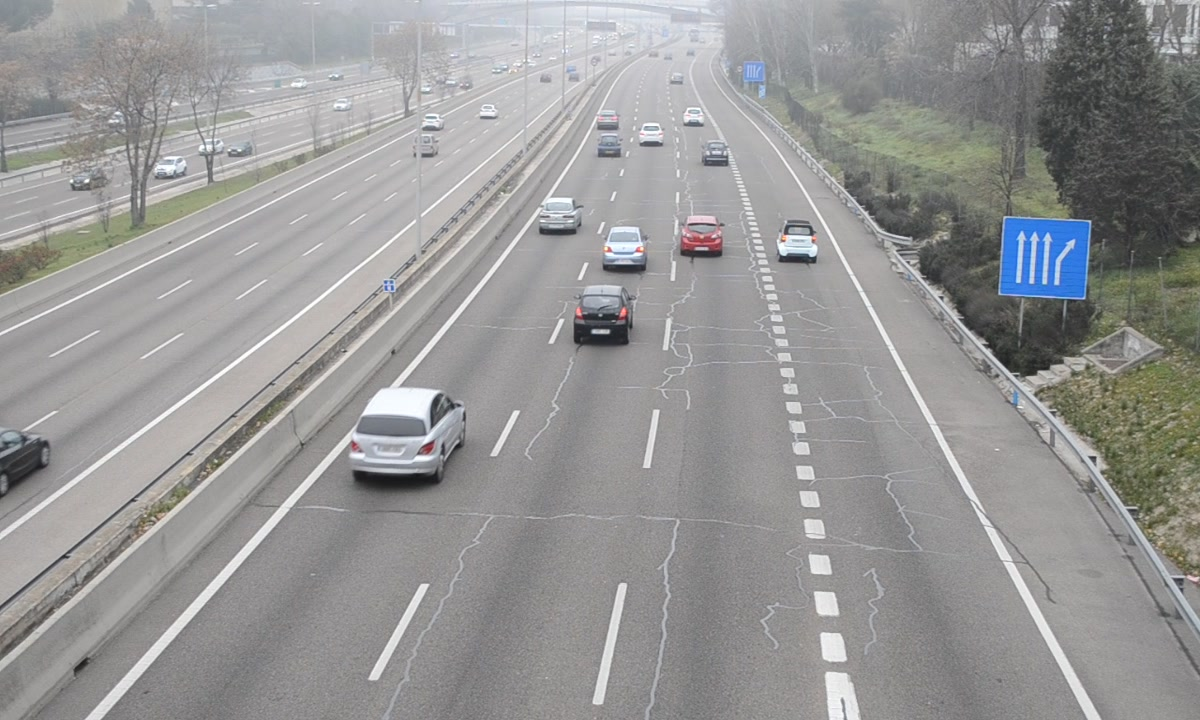car: (350, 386, 466, 479), (574, 284, 636, 346), (602, 226, 649, 275), (681, 215, 726, 258), (777, 219, 819, 264), (538, 197, 583, 236), (701, 140, 730, 167), (596, 133, 624, 159), (638, 121, 665, 147), (595, 109, 621, 130)
